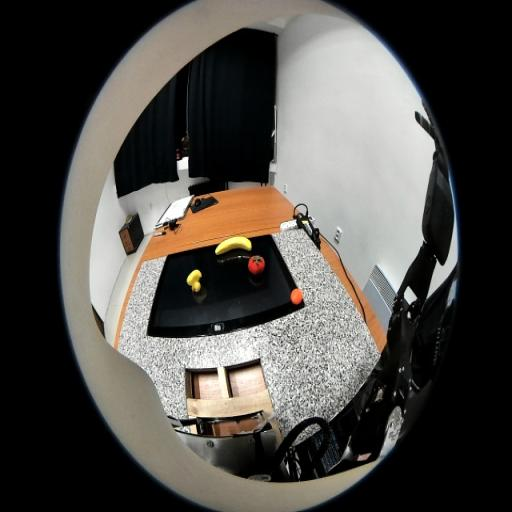Banana: (215, 236, 252, 255)
Duck: (186, 269, 202, 293)
Orange: (290, 288, 302, 305)
Tomato: (248, 254, 265, 274)
